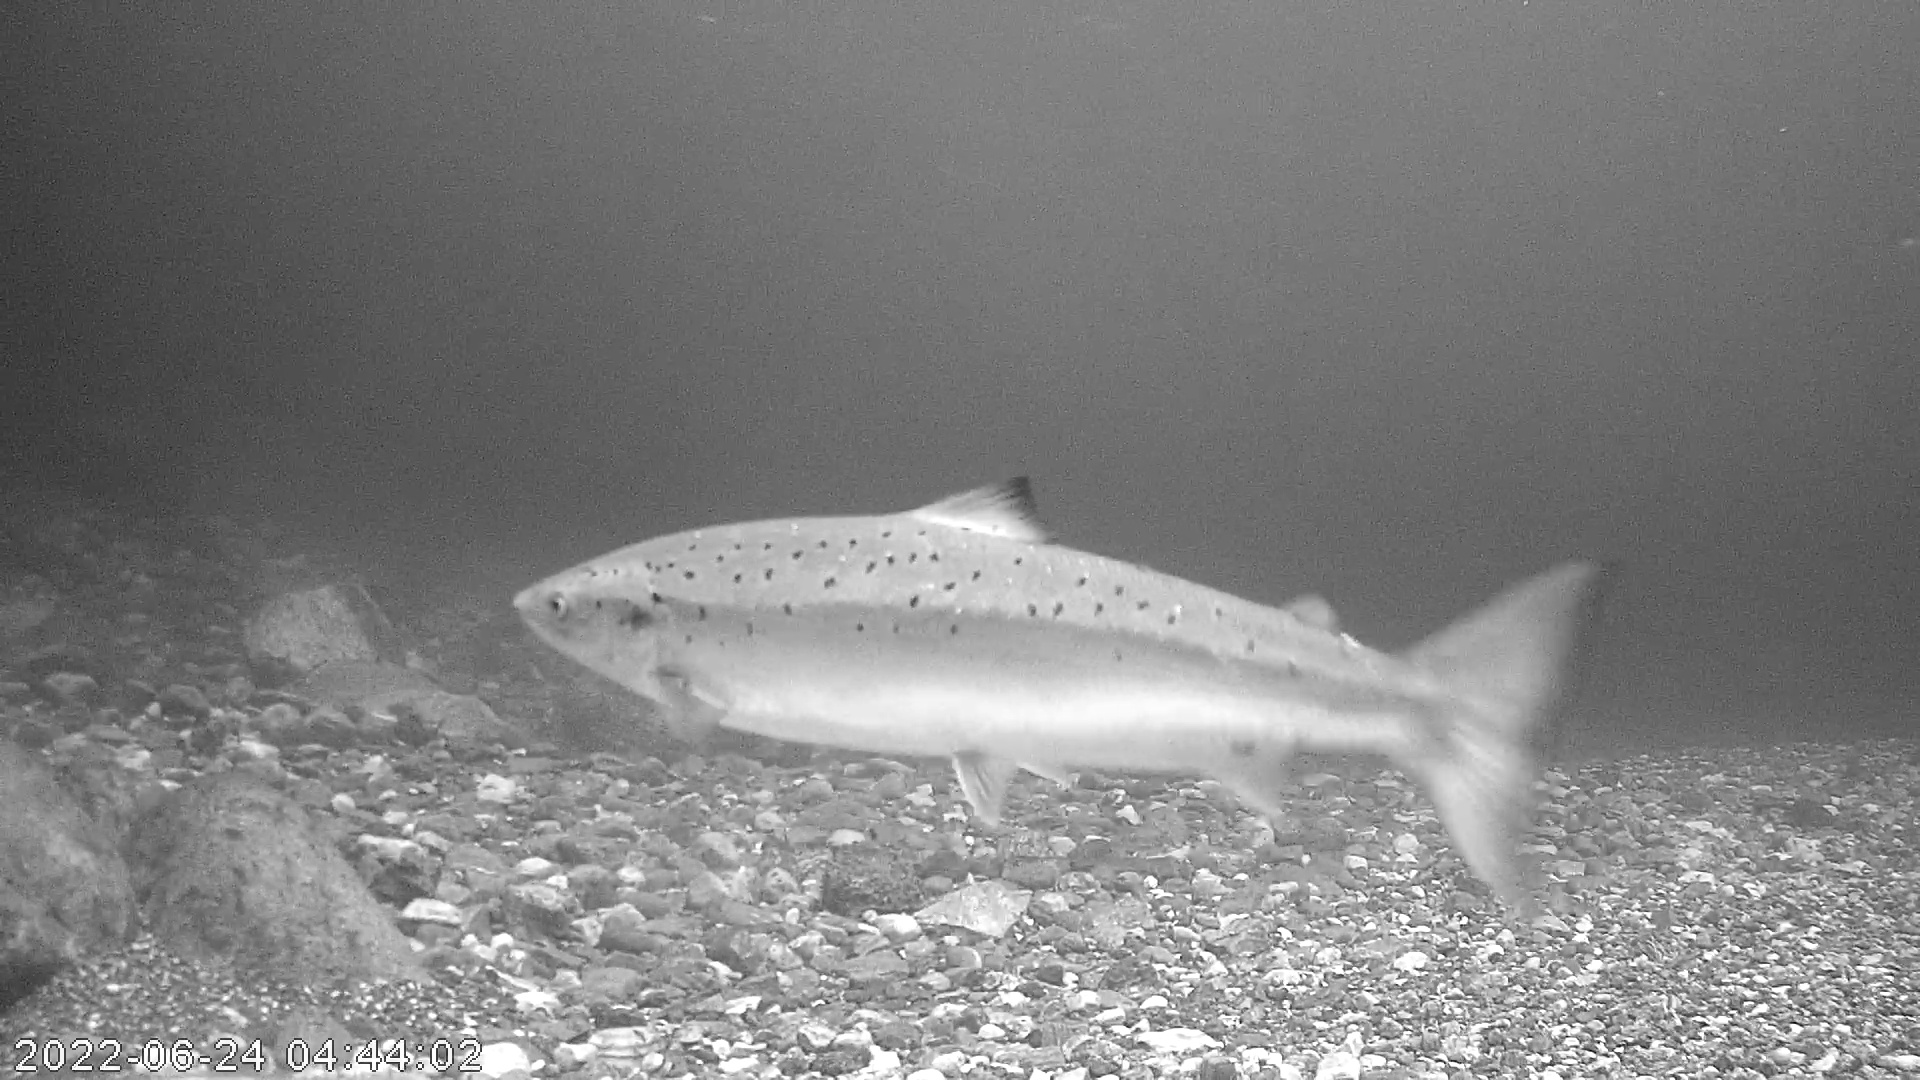salmon: (509, 471, 1611, 924)
